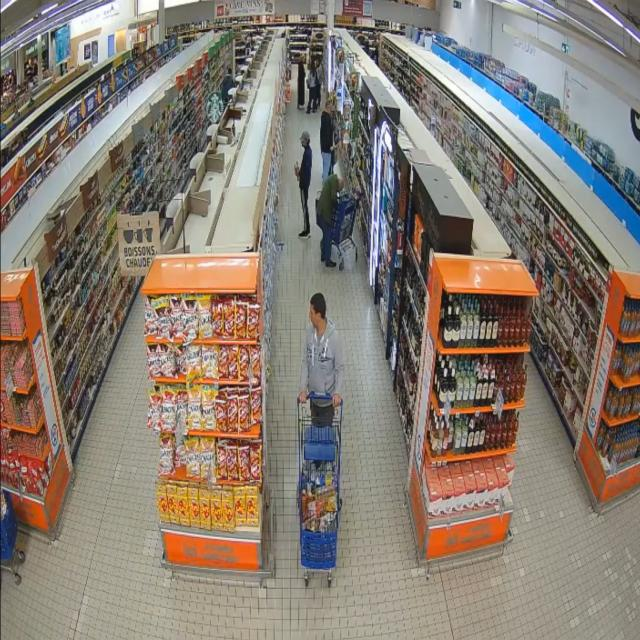article: (295, 162, 300, 181)
hands: (299, 391, 307, 403), (333, 395, 340, 407), (295, 163, 300, 176), (330, 145, 335, 151)
person: (299, 293, 344, 426), (317, 175, 344, 267), (295, 131, 312, 239), (321, 100, 333, 182)
